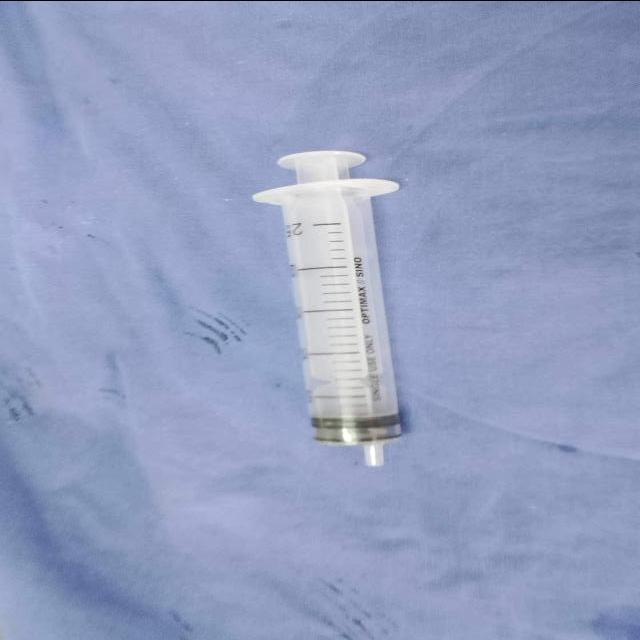General: (2, 3, 637, 638)
Sharps: (250, 148, 405, 467)
